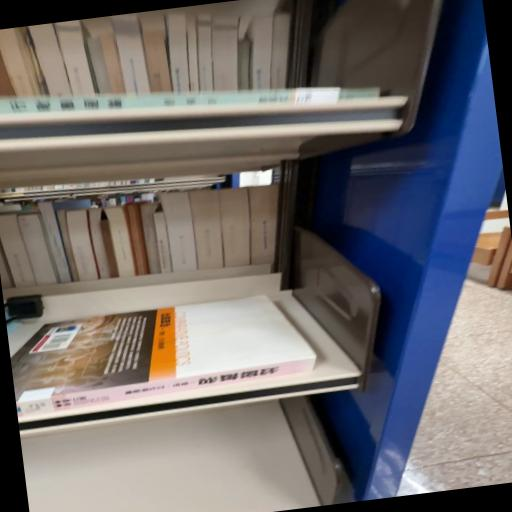flat: (11, 297, 317, 417)
